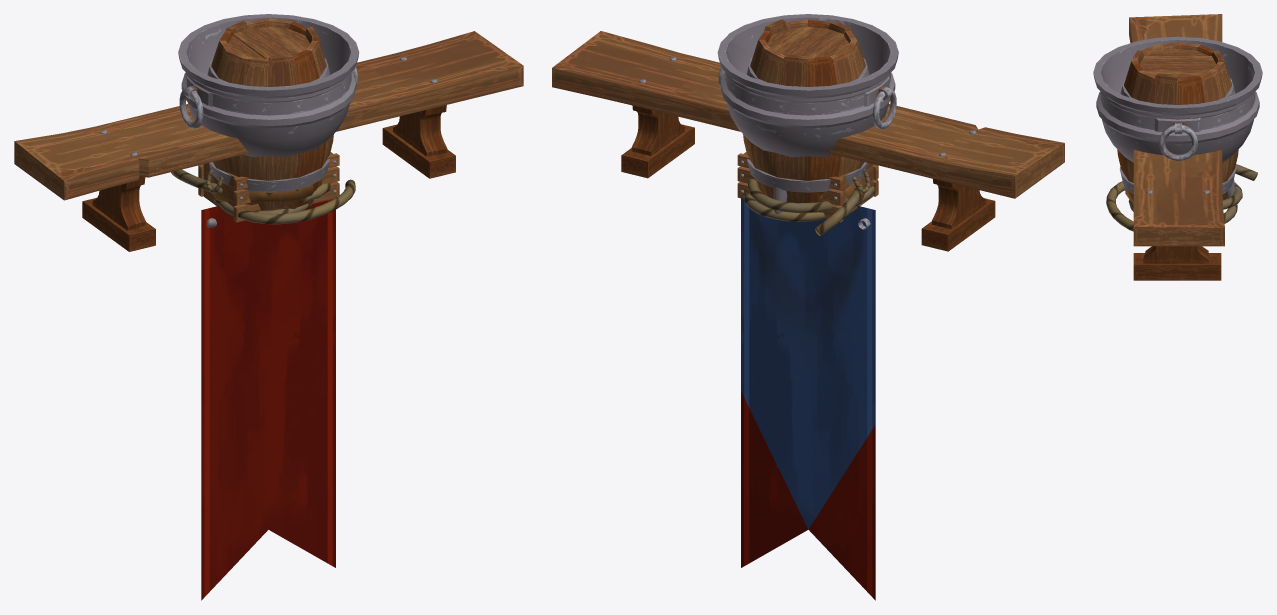
Rendered from fantasy-props.glb.
3 views of the same model, side by side, from view 1: azimuth 30°, elevation 25°; view 2: azimuth 150°, elevation 25°; view 3: azimuth 270°, elevation 25° (orthographic). The views are drawn at different scales.
Parts seen in each view (by area): view 1: Banner_1_Cloth, Bench, Cauldron, Barrel, Rope_2, FarmCrate_Empty, Bag; view 2: Banner_2_Cloth, Bench, Cauldron, Banner_1_Cloth, Barrel, FarmCrate_Empty, Rope_2, Rope_1; view 3: Bench, Cauldron, Barrel, Rope_2.
Part boxes in pixels (x1,y1,x2,y2): Banner_1_Cloth: (201, 199, 335, 600); Bench: (14, 31, 523, 251); Cauldron: (178, 14, 359, 204); Barrel: (207, 18, 333, 210); Rope_2: (171, 169, 355, 224); FarmCrate_Empty: (198, 152, 339, 222); Bag: (207, 172, 322, 204); Banner_2_Cloth: (741, 198, 875, 529); Bench: (552, 31, 1064, 251); Cauldron: (717, 14, 898, 213); Banner_1_Cloth: (741, 218, 875, 600); Barrel: (743, 19, 869, 203); FarmCrate_Empty: (737, 152, 878, 222); Rope_2: (748, 178, 877, 235); Rope_1: (743, 193, 824, 221); Bench: (1129, 14, 1224, 280); Cauldron: (1093, 36, 1262, 198); Barrel: (1117, 42, 1238, 200); Rope_2: (1106, 164, 1257, 231).
Bounding box in the file's own units: 2.78 × 3.15 × 0.9439.
4 materials, 4 textured.
